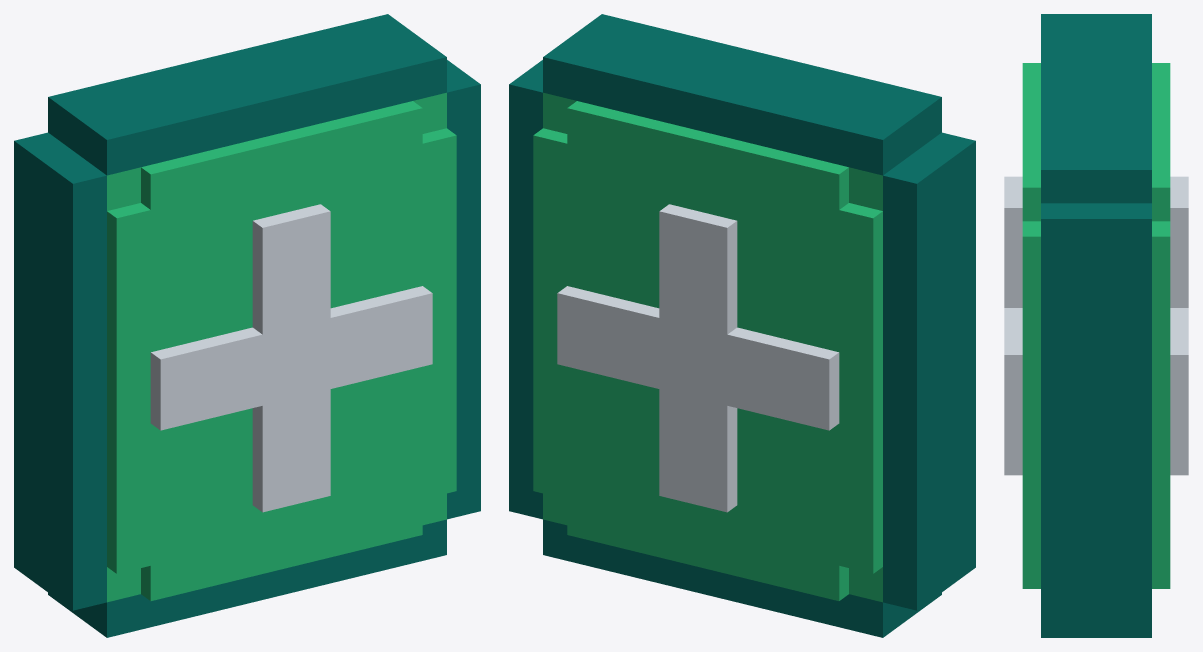
The model's file is Health Pack.fbx.
The picture shows the model from 3 angles, left to right: view 1: azimuth 30°, elevation 25°; view 2: azimuth 150°, elevation 25°; view 3: azimuth 270°, elevation 25°; orthographic projection. The views are drawn at different scales.
Parts seen in each view (by area): view 1: generated; view 2: generated; view 3: generated.
Part boxes in pixels (left/top/right/bottom): generated: left=14, top=14, right=480, bottom=637; generated: left=509, top=14, right=975, bottom=637; generated: left=1004, top=14, right=1188, bottom=637.
Bounding box in the file's own units: 12 × 14 × 5.
